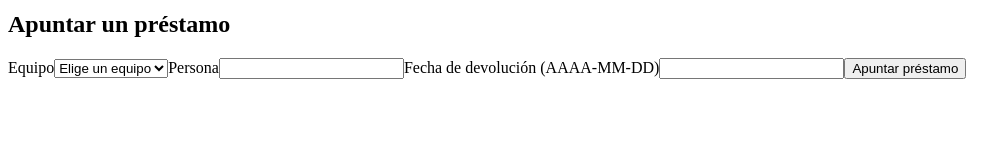
pantalla Apuntar un préstamo › enseña tal cual el mensaje de la API con un 400: Faltan la persona o la fecha de devolución
Select "Portátil 07" in the dropdown labelled "Equipo" at [111, 68], box [54,59,168,78]
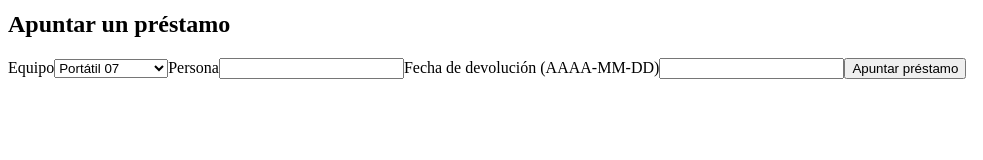
Type "Ana Pérez" into the field labelled "Persona".
click(311, 68); type("Ana Pérez")  # box [219,58,404,79]
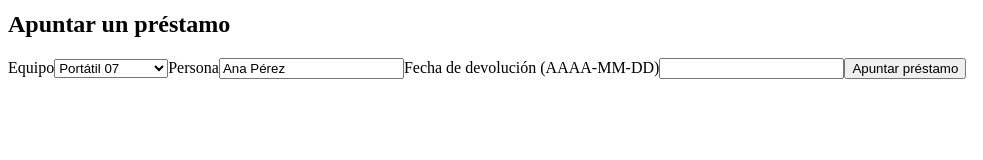
Type "2026-12-15" into the field labelled "Fecha de devolución (AAAA-MM-DD)".
click(752, 68); type("2026-12-15")  # box [659,58,844,79]
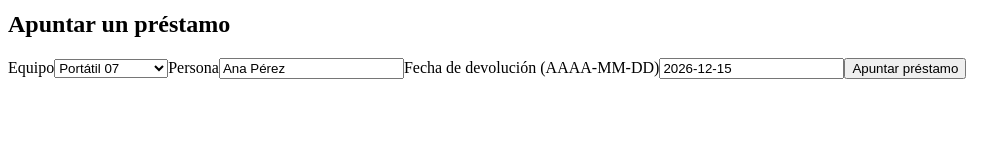
Click the button "Apuntar préstamo".
click(905, 68)  # box [844,58,966,79]
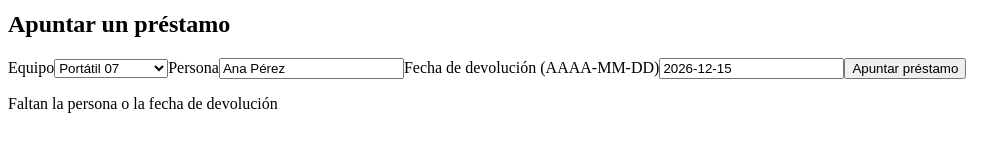
Now the message reads "Faltan la persona o la fecha de devolución", box [8,95,278,112]
